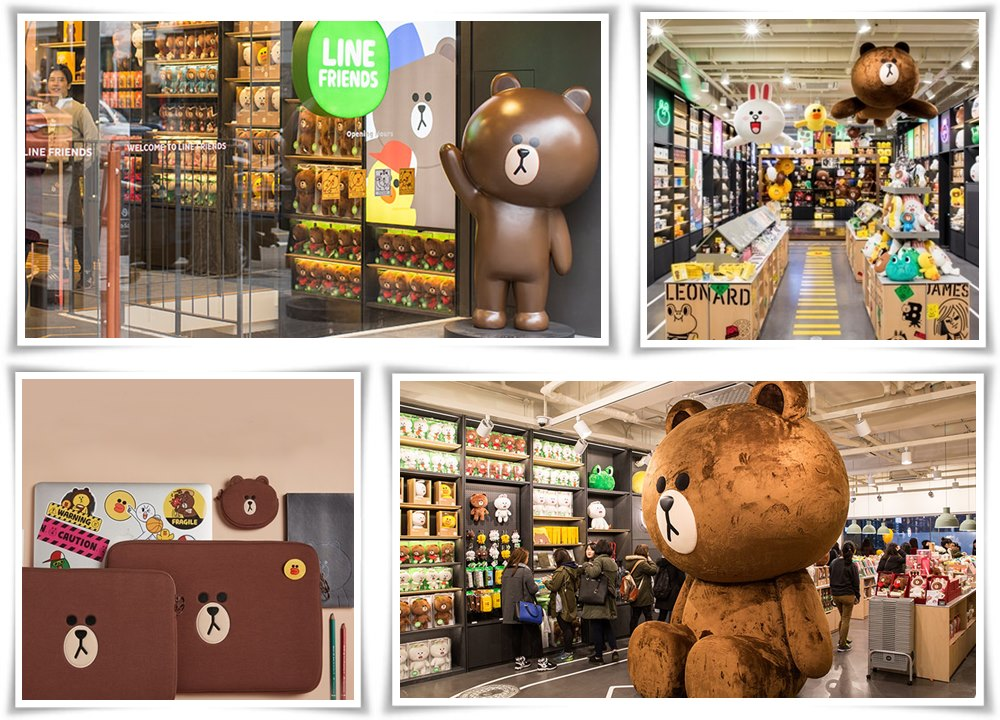line_brown: (632, 380, 860, 587), (451, 66, 605, 216), (210, 465, 288, 538), (851, 38, 921, 112)
